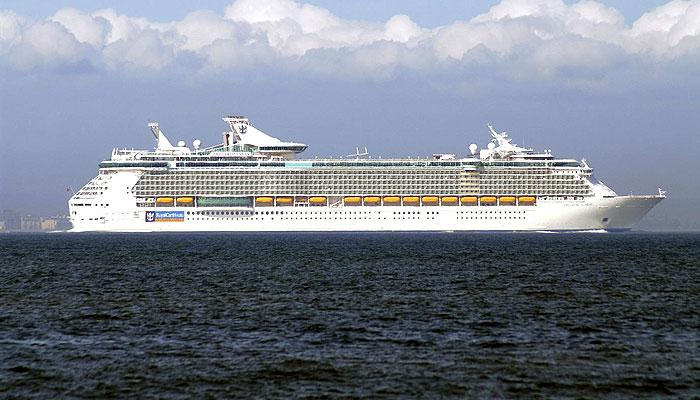youlun: (62, 114, 662, 239)
